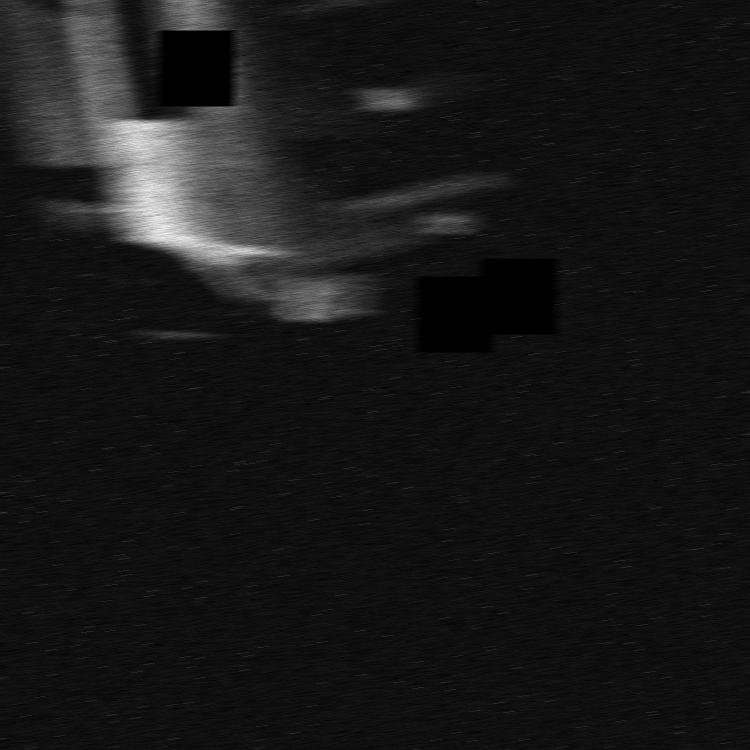Airbag: (0, 0, 518, 352)
